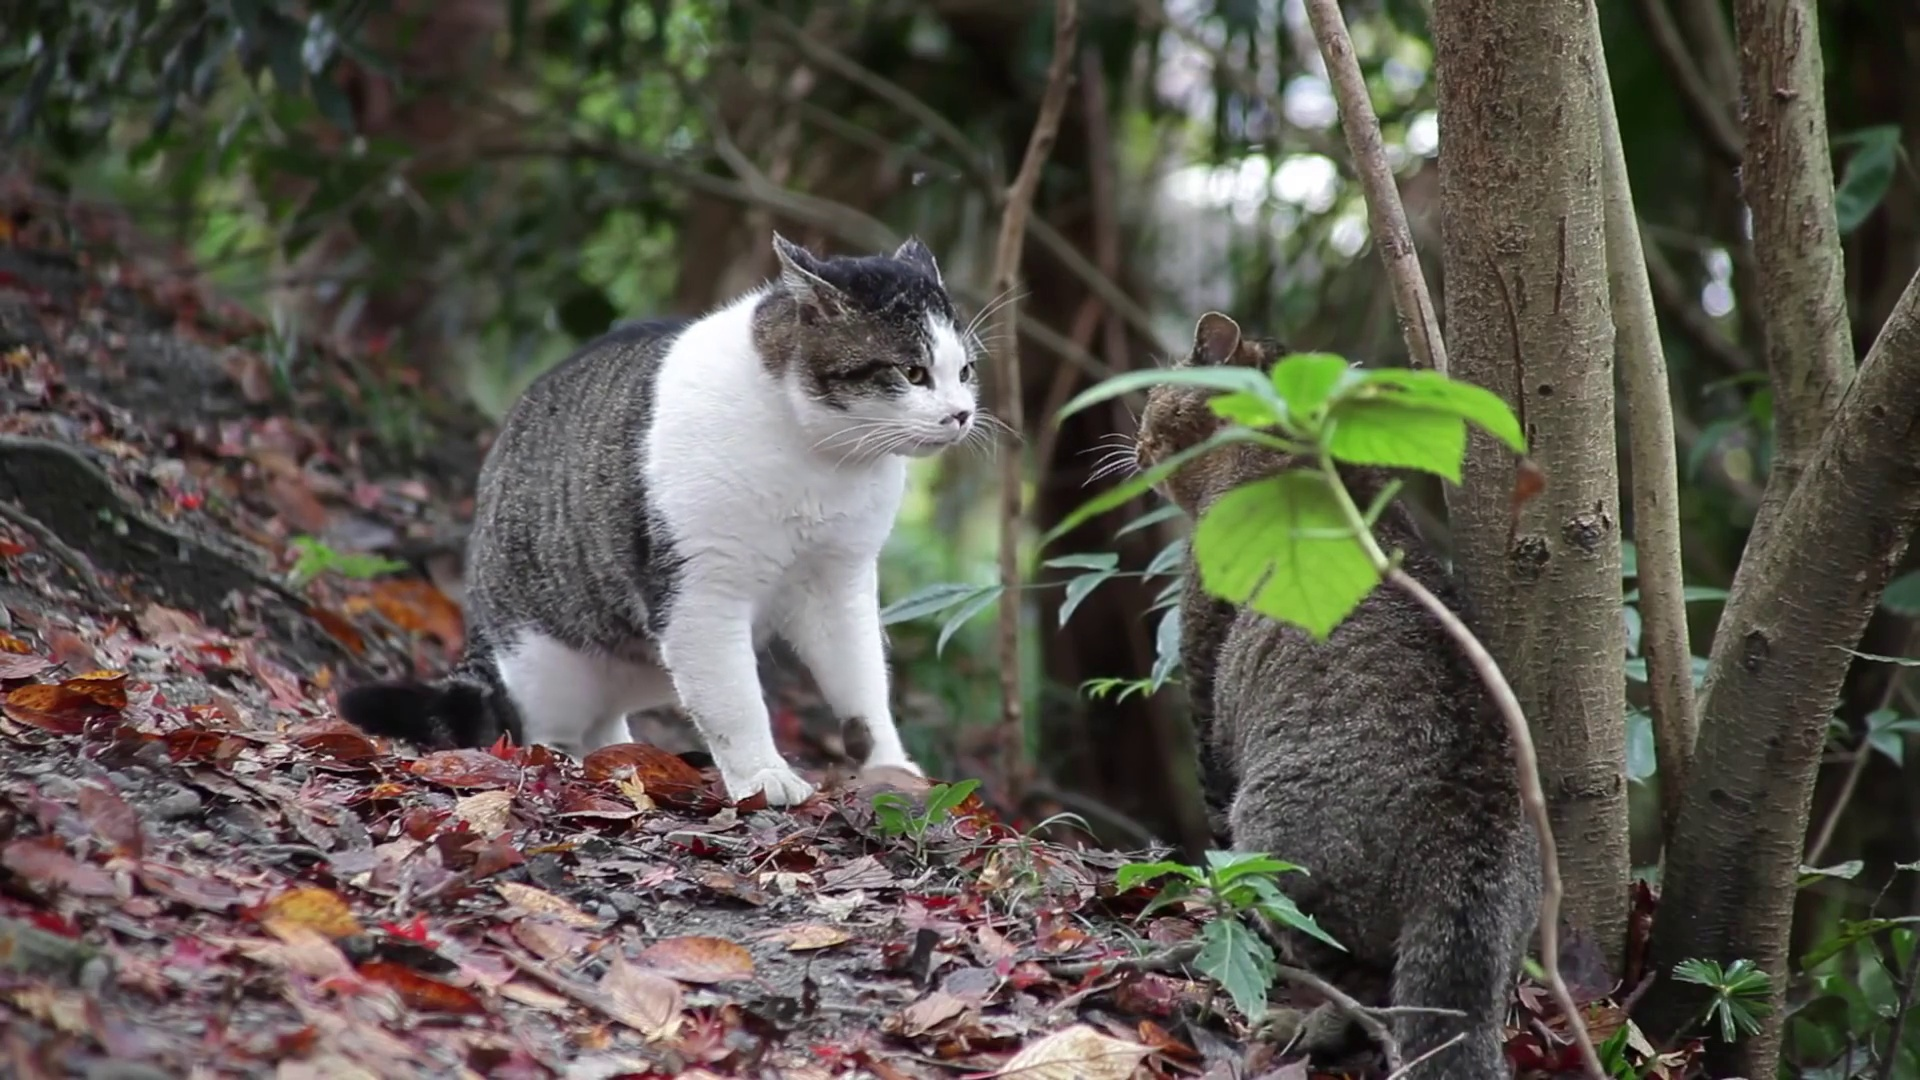black-white: (338, 227, 980, 806)
pure black: (1133, 309, 1532, 1080)
